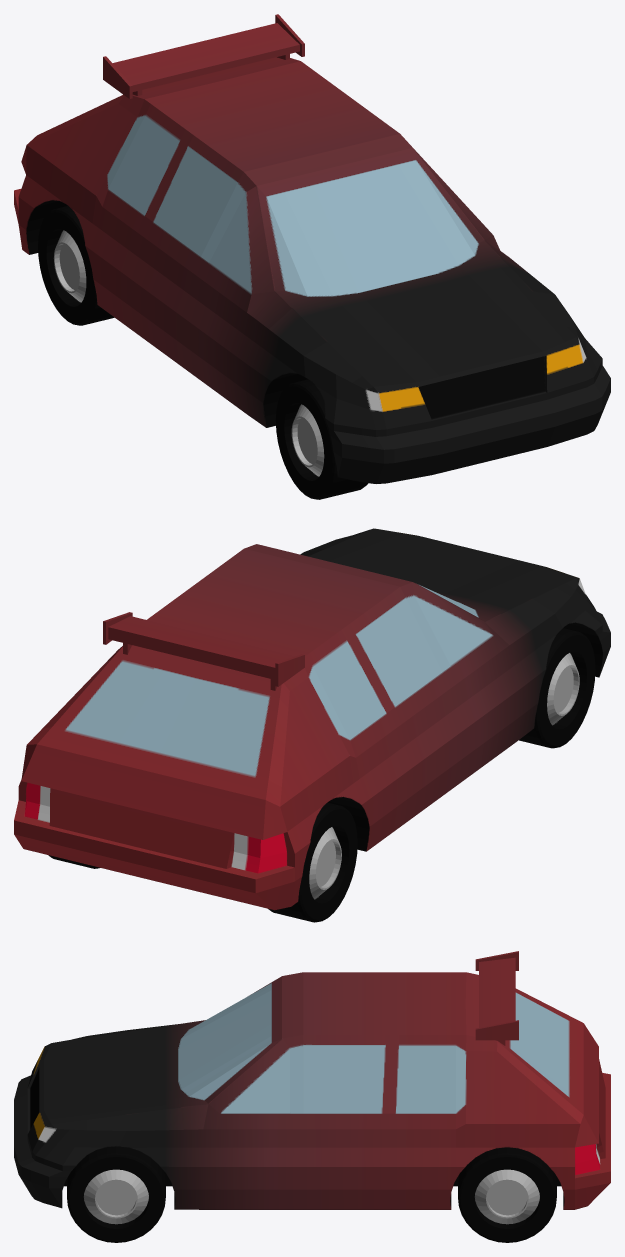
The model's file is Airdrop.glb.
3 views of the same model, one above another, from view 1: azimuth 30°, elevation 25°; view 2: azimuth 150°, elevation 25°; view 3: azimuth 270°, elevation 25° (orthographic). The views are drawn at different scales.
Visible parts, largest first — view 1: Airdrop-body, Airdrop-wheel.Ft.R, Airdrop-wheel.Bk.R; view 2: Airdrop-body, Airdrop-wheel.Ft.R, Airdrop-wheel.Bk.R; view 3: Airdrop-body, Airdrop-wheel.Ft.L, Airdrop-wheel.Bk.L.
Part boxes in pixels (bbox=[...]): Airdrop-body: bbox=[14, 14, 610, 483]; Airdrop-wheel.Ft.R: bbox=[275, 379, 367, 499]; Airdrop-wheel.Bk.R: bbox=[38, 206, 114, 325]; Airdrop-body: bbox=[14, 528, 610, 910]; Airdrop-wheel.Ft.R: bbox=[519, 628, 595, 748]; Airdrop-wheel.Bk.R: bbox=[268, 802, 357, 922]; Airdrop-body: bbox=[14, 951, 610, 1209]; Airdrop-wheel.Ft.L: bbox=[67, 1146, 165, 1242]; Airdrop-wheel.Bk.L: bbox=[458, 1147, 556, 1242].
Bounding box in the file's own units: 1.08 × 0.9284 × 2.45.
Materials: 3 (3 with a texture image).
